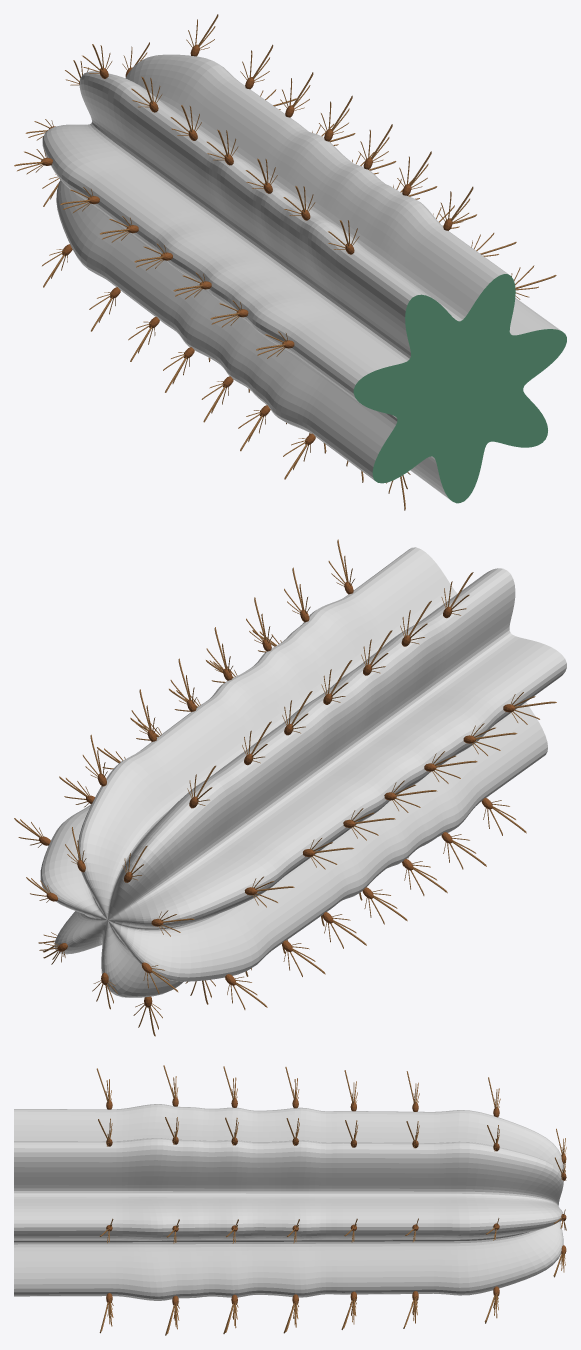
Rendered from frame-160.glb.
3 renders of one model, top to bottom at view 1: azimuth 30°, elevation 25°; view 2: azimuth 150°, elevation 25°; view 3: azimuth 270°, elevation 25°, orthographic. The views are drawn at different scales.
Parts seen in each view (by area): view 1: WACHUMA_Pachanoi_Frame_160; view 2: WACHUMA_Pachanoi_Frame_160; view 3: WACHUMA_Pachanoi_Frame_160.
Boxes of the visible parts, left/top/right/bottom form: WACHUMA_Pachanoi_Frame_160: left=14, top=14, right=566, bottom=510; WACHUMA_Pachanoi_Frame_160: left=14, top=539, right=566, bottom=1036; WACHUMA_Pachanoi_Frame_160: left=14, top=1065, right=566, bottom=1335.
Size of the model in its own units: 1.24 by 1.21 by 2.47.
